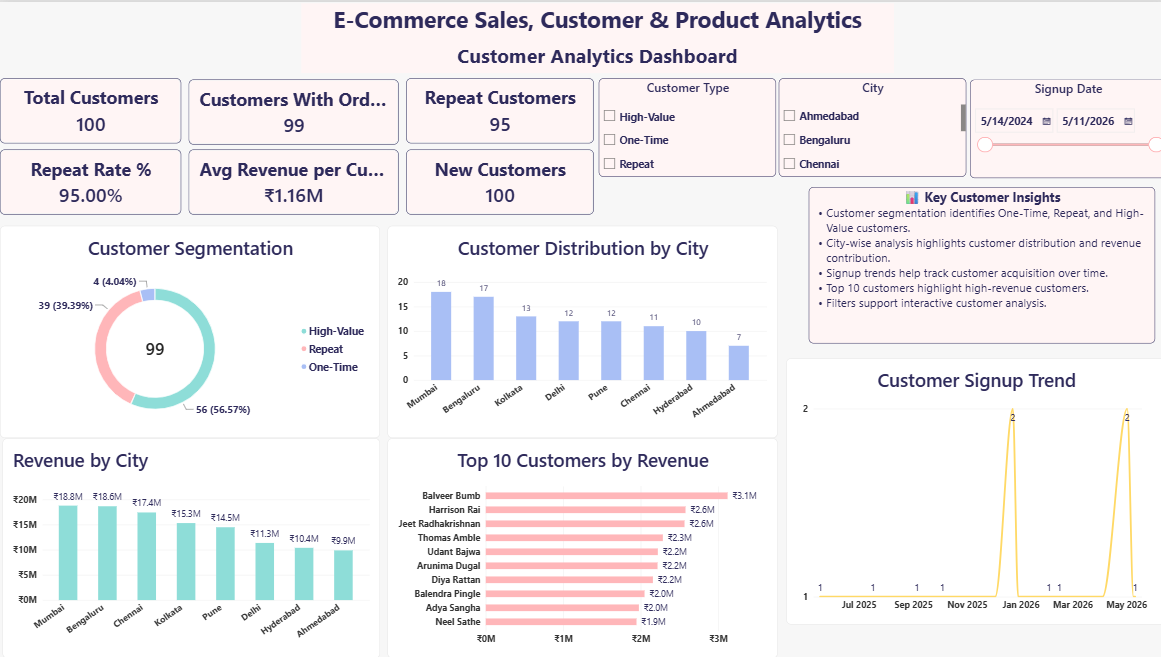

This screenshot's page, from the dashboard's own definition file:
{"tool":"powerbi","page":{"name":"Customer Analytics Dashboard","canvas":[1920,1080],"ordinal":1},"visuals":[{"type":"textbox","box":[496.1,2.1,975.6,63.8],"z":0},{"type":"textbox","box":[496.1,65.9,975.6,51.5],"z":1000},{"type":"cardVisual","fields":{"Data":["customers.Total Customers"]},"box":[0,125.6,298.5,107],"z":2000},{"type":"cardVisual","fields":{"Data":["customers.Customers With Orders"]},"box":[310.8,127.6,345.8,107],"z":3000},{"type":"cardVisual","fields":{"Data":["Customer Summary.Repeat Customers"]},"box":[669,125.6,308.7,107],"z":4000},{"type":"cardVisual","fields":{"Data":["Customer Summary.Repeat Rate %"]},"box":[0,242.9,298.5,107],"z":5000},{"type":"cardVisual","fields":{"Data":["customers.Avg Revenue per Customer"]},"box":[310.8,242.9,345.8,107],"z":6000},{"type":"cardVisual","fields":{"Data":["customers.New Customers"]},"box":[669,242.9,308.7,107],"z":7000},{"type":"donutChart","title":"Customer Segmentation","fields":{"Category":["Customer Summary.Customer Type"],"Y":["CountNonNull(Customer Summary.customer_id)"]},"box":[0,368.4,625.7,349.9],"z":8000},{"type":"clusteredColumnChart","title":"Customer Distribution by City","fields":{"Category":["customers.city"],"Y":["Count(customers.customer_id)"]},"box":[638.1,368.4,642.2,349.9],"z":9000},{"type":"clusteredColumnChart","title":"Revenue by City","fields":{"Category":["customers.city"],"Y":["order_items.Total Revenue"]},"box":[4.1,718.4,621.6,362.3],"z":10000},{"type":"clusteredBarChart","title":"Top 10 Customers by Revenue","fields":{"Category":["customers.customer_name"],"Y":["order_items.Total Revenue"]},"box":[638.1,718.4,642.2,362.3],"z":11000},{"type":"lineChart","title":"Customer Signup Trend","fields":{"Category":["Date.Date"],"Y":["customers.New Customers"]},"box":[1294.7,586.6,625.7,438.4],"z":12000},{"type":"slicer","title":"Customer Type","fields":{"Values":["Customer Summary.Customer Type"]},"box":[985.9,125.6,292.3,162.6],"z":13000},{"type":"slicer","title":"City","fields":{"Values":["customers.city"]},"box":[1282.3,125.6,308.7,162.6],"z":14000},{"type":"slicer","title":"Signup Date","fields":{"Values":["customers.signup_date"]},"box":[1597.3,127.6,323.2,162.6],"z":15000},{"type":"textbox","box":[1331.7,304.6,570.2,257.3],"z":16000}]}

Visuals, with their boxes in screenshot pixels (x1, y1, x2, y2), scaled from the page's 1920x1080 canvas onto the 1161x657 screenshot:
textbox: [left=300, top=1, right=890, bottom=40]
textbox: [left=300, top=40, right=890, bottom=71]
cardVisual - customers.Total Customers: [left=0, top=76, right=180, bottom=141]
cardVisual - customers.Customers With Orders: [left=188, top=78, right=397, bottom=143]
cardVisual - Customer Summary.Repeat Customers: [left=405, top=76, right=591, bottom=141]
cardVisual - Customer Summary.Repeat Rate %: [left=0, top=148, right=180, bottom=213]
cardVisual - customers.Avg Revenue per Customer: [left=188, top=148, right=397, bottom=213]
cardVisual - customers.New Customers: [left=405, top=148, right=591, bottom=213]
"Customer Segmentation" donutChart: [left=0, top=224, right=378, bottom=437]
"Customer Distribution by City" clusteredColumnChart: [left=386, top=224, right=774, bottom=437]
"Revenue by City" clusteredColumnChart: [left=2, top=437, right=378, bottom=656]
"Top 10 Customers by Revenue" clusteredBarChart: [left=386, top=437, right=774, bottom=656]
"Customer Signup Trend" lineChart: [left=783, top=357, right=1160, bottom=624]
"Customer Type" slicer: [left=596, top=76, right=773, bottom=175]
"City" slicer: [left=775, top=76, right=962, bottom=175]
"Signup Date" slicer: [left=966, top=78, right=1160, bottom=177]
textbox: [left=805, top=185, right=1150, bottom=342]
